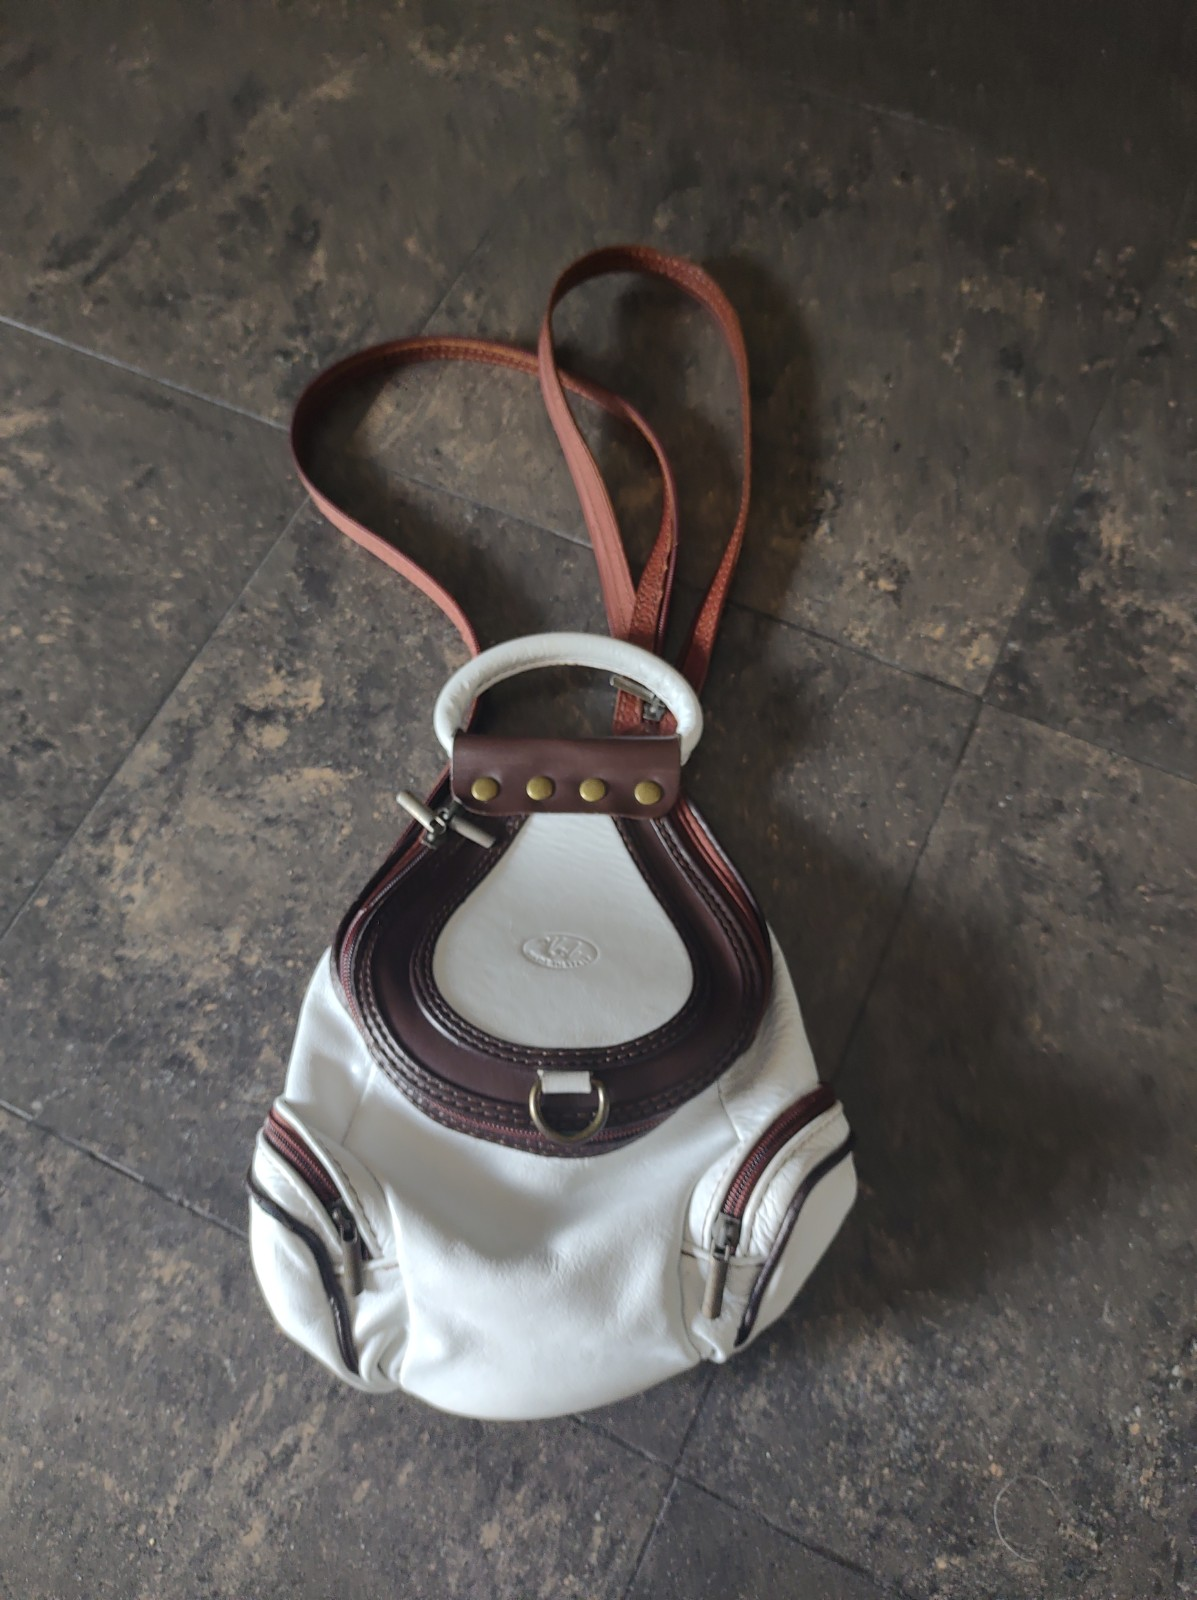cartera: (192, 525, 938, 1482)
cuero: (250, 714, 868, 1419)
